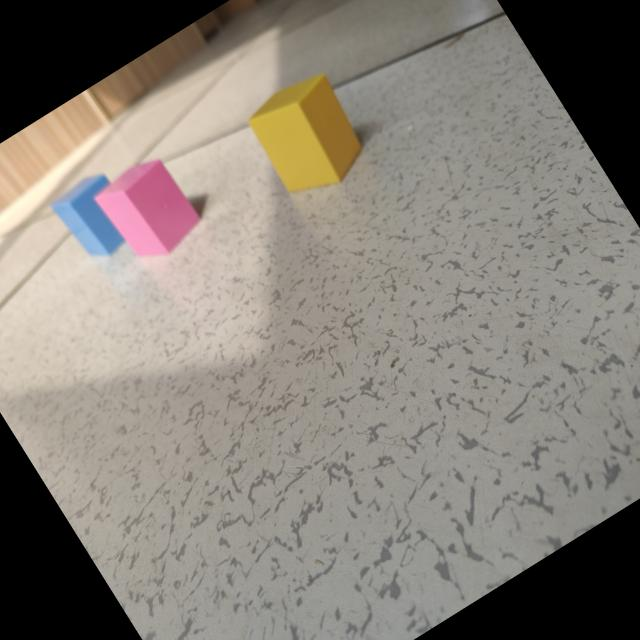blue: (53, 172, 124, 258)
pink: (95, 159, 202, 257)
yellow: (248, 73, 363, 194)
